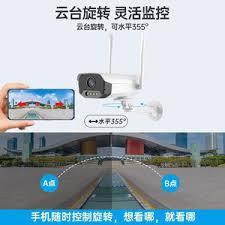tutu: (75, 66, 153, 112)
